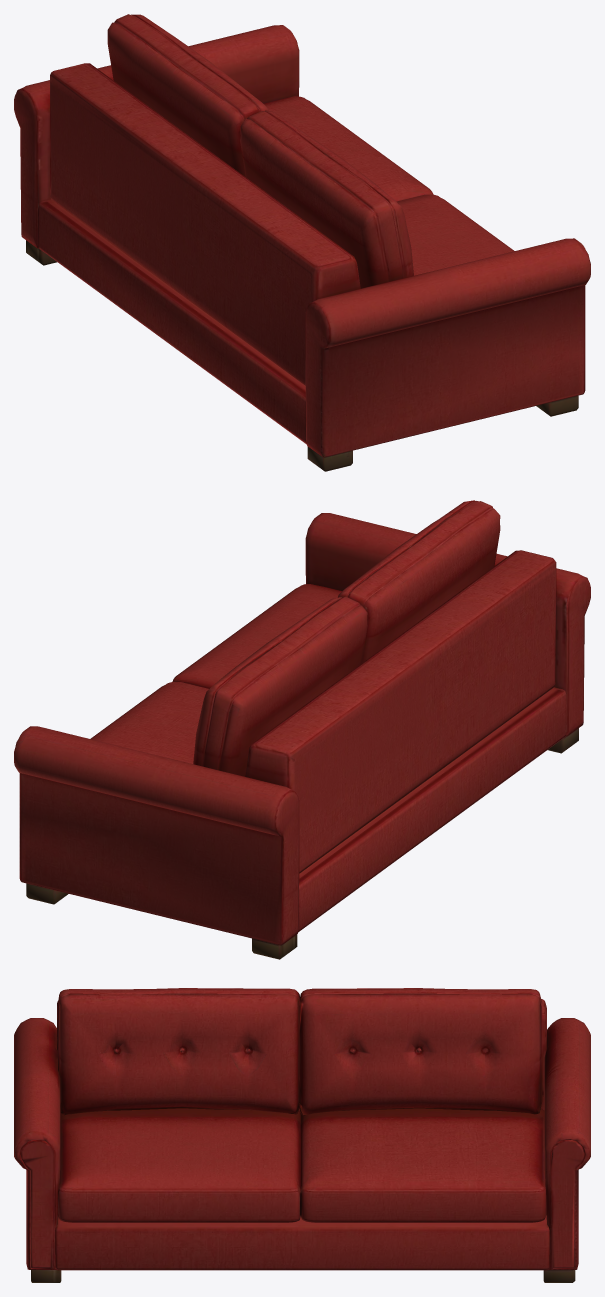
The picture shows the model from 3 angles, top to bottom: view 1: azimuth 30°, elevation 25°; view 2: azimuth 150°, elevation 25°; view 3: azimuth 270°, elevation 25°; orthographic projection. The views are drawn at different scales.
Visible parts, largest first — view 1: tripo_node_b746324f-f4db-4f55-9051-31fc58137b9d; view 2: tripo_node_b746324f-f4db-4f55-9051-31fc58137b9d; view 3: tripo_node_b746324f-f4db-4f55-9051-31fc58137b9d.
Boxes of the visible parts, x1,y1,x2,y2 form: tripo_node_b746324f-f4db-4f55-9051-31fc58137b9d: [14, 14, 590, 471]; tripo_node_b746324f-f4db-4f55-9051-31fc58137b9d: [14, 500, 590, 959]; tripo_node_b746324f-f4db-4f55-9051-31fc58137b9d: [14, 988, 590, 1282].
Size of the model in its own units: 0.4863 by 0.4121 by 0.998.
1 material, 1 textured.
